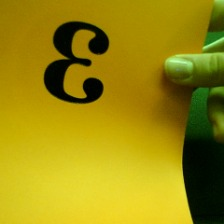orange3: (42, 17, 113, 108)
